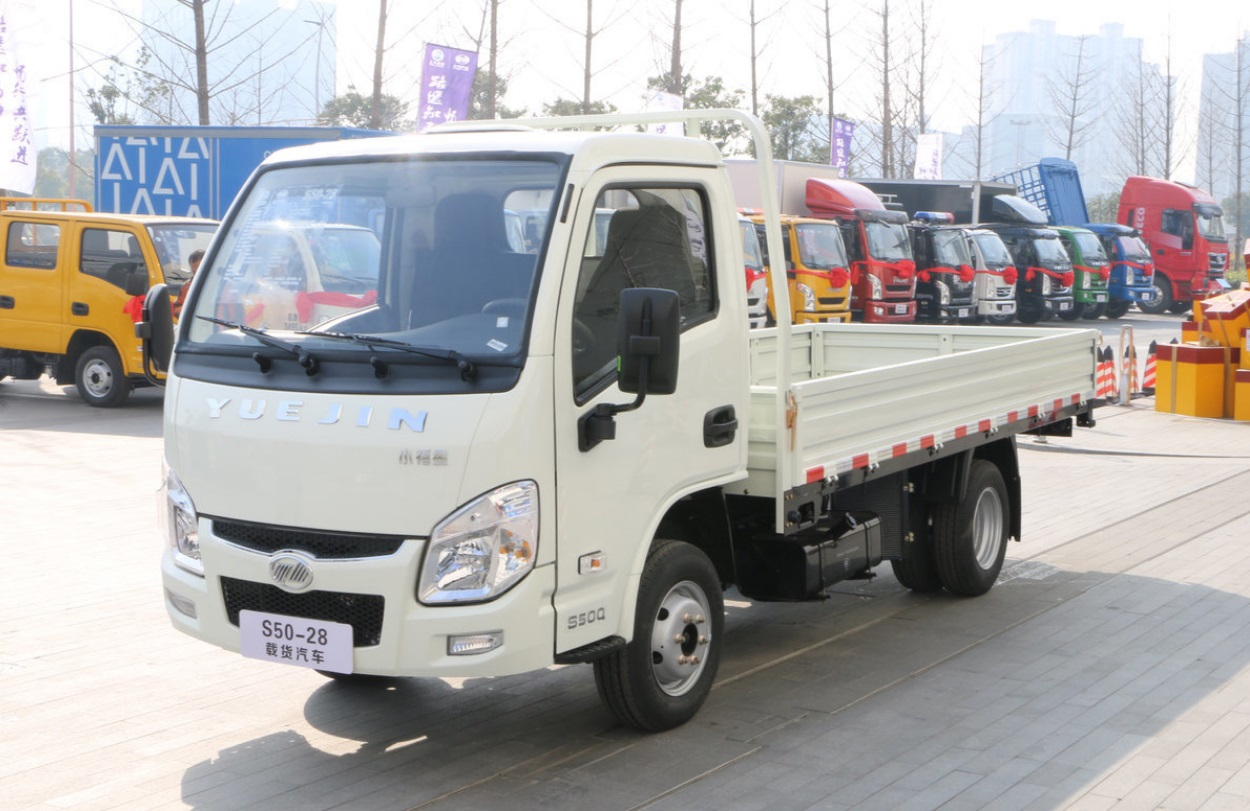truck: (133, 103, 1104, 735)
